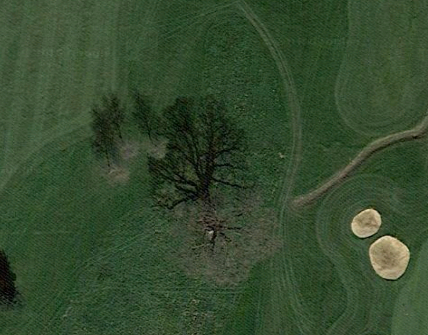tree: (157, 183, 285, 288)
